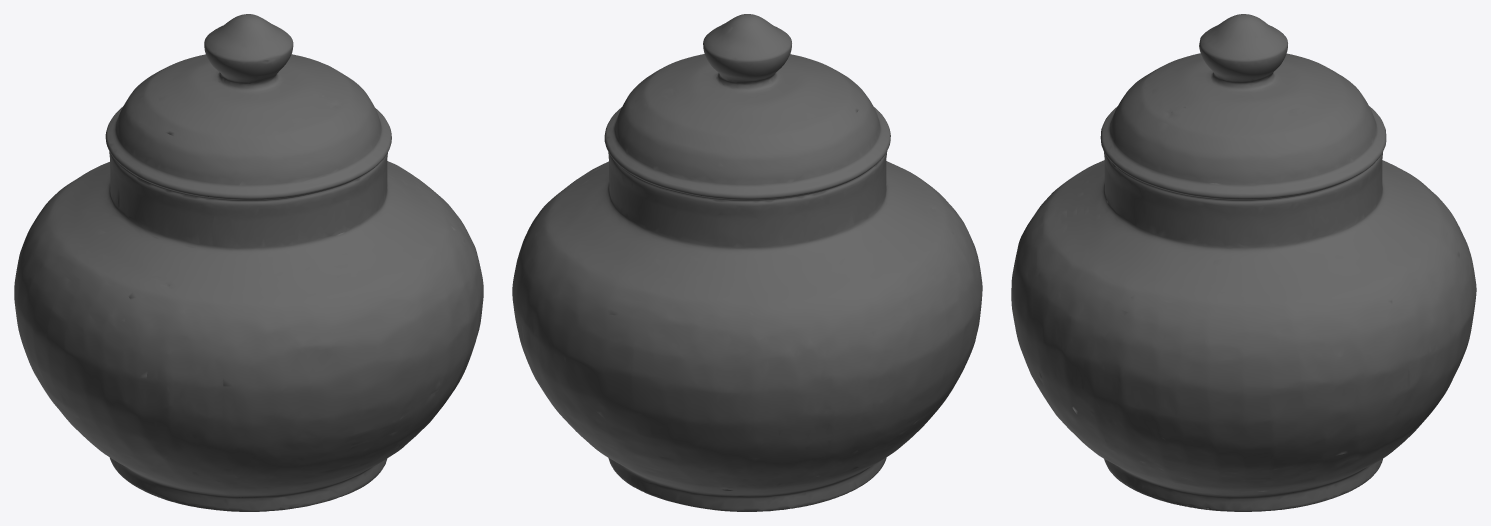
3 views of the same model, side by side, from view 1: azimuth 30°, elevation 25°; view 2: azimuth 150°, elevation 25°; view 3: azimuth 270°, elevation 25° (orthographic).
Parts seen in each view (by area): view 1: mesh_uvwarp; view 2: mesh_uvwarp; view 3: mesh_uvwarp.
Boxes of the visible parts, left/top/right/bottom form: mesh_uvwarp: left=14, top=14, right=483, bottom=511; mesh_uvwarp: left=512, top=14, right=982, bottom=511; mesh_uvwarp: left=1011, top=14, right=1476, bottom=511.
Size of the model in its own units: 1.93 by 2 by 1.92.
1 material, 1 textured.
